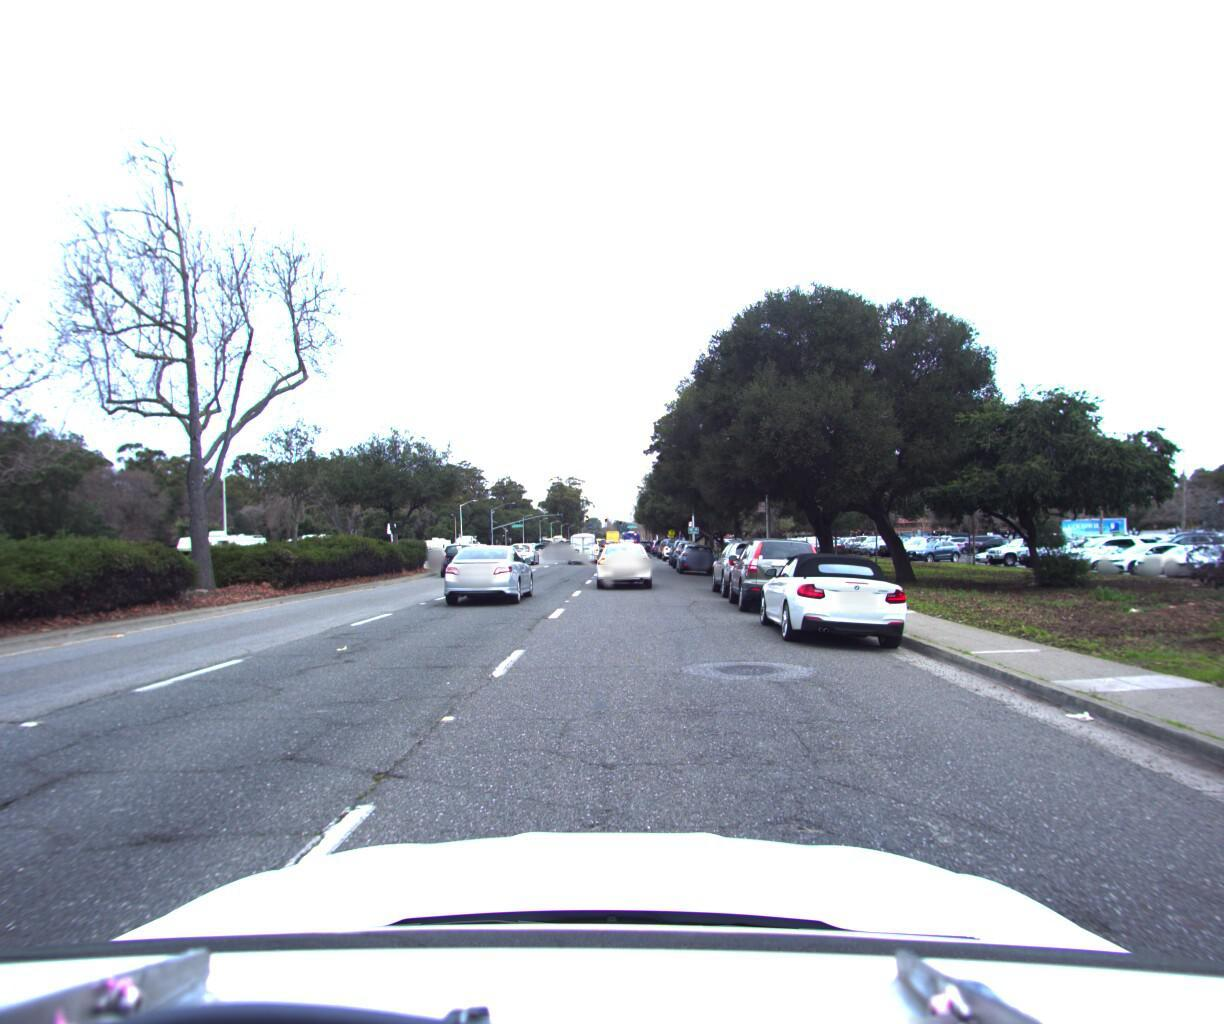car: (753, 543, 919, 650), (724, 528, 831, 613), (438, 540, 537, 609), (703, 529, 797, 600), (595, 534, 654, 587), (432, 539, 482, 575), (673, 536, 716, 569), (564, 527, 600, 561), (670, 534, 702, 563), (507, 536, 541, 561), (658, 532, 685, 554), (554, 533, 575, 550)
other_vehicle: (169, 525, 273, 581), (278, 528, 343, 570)
